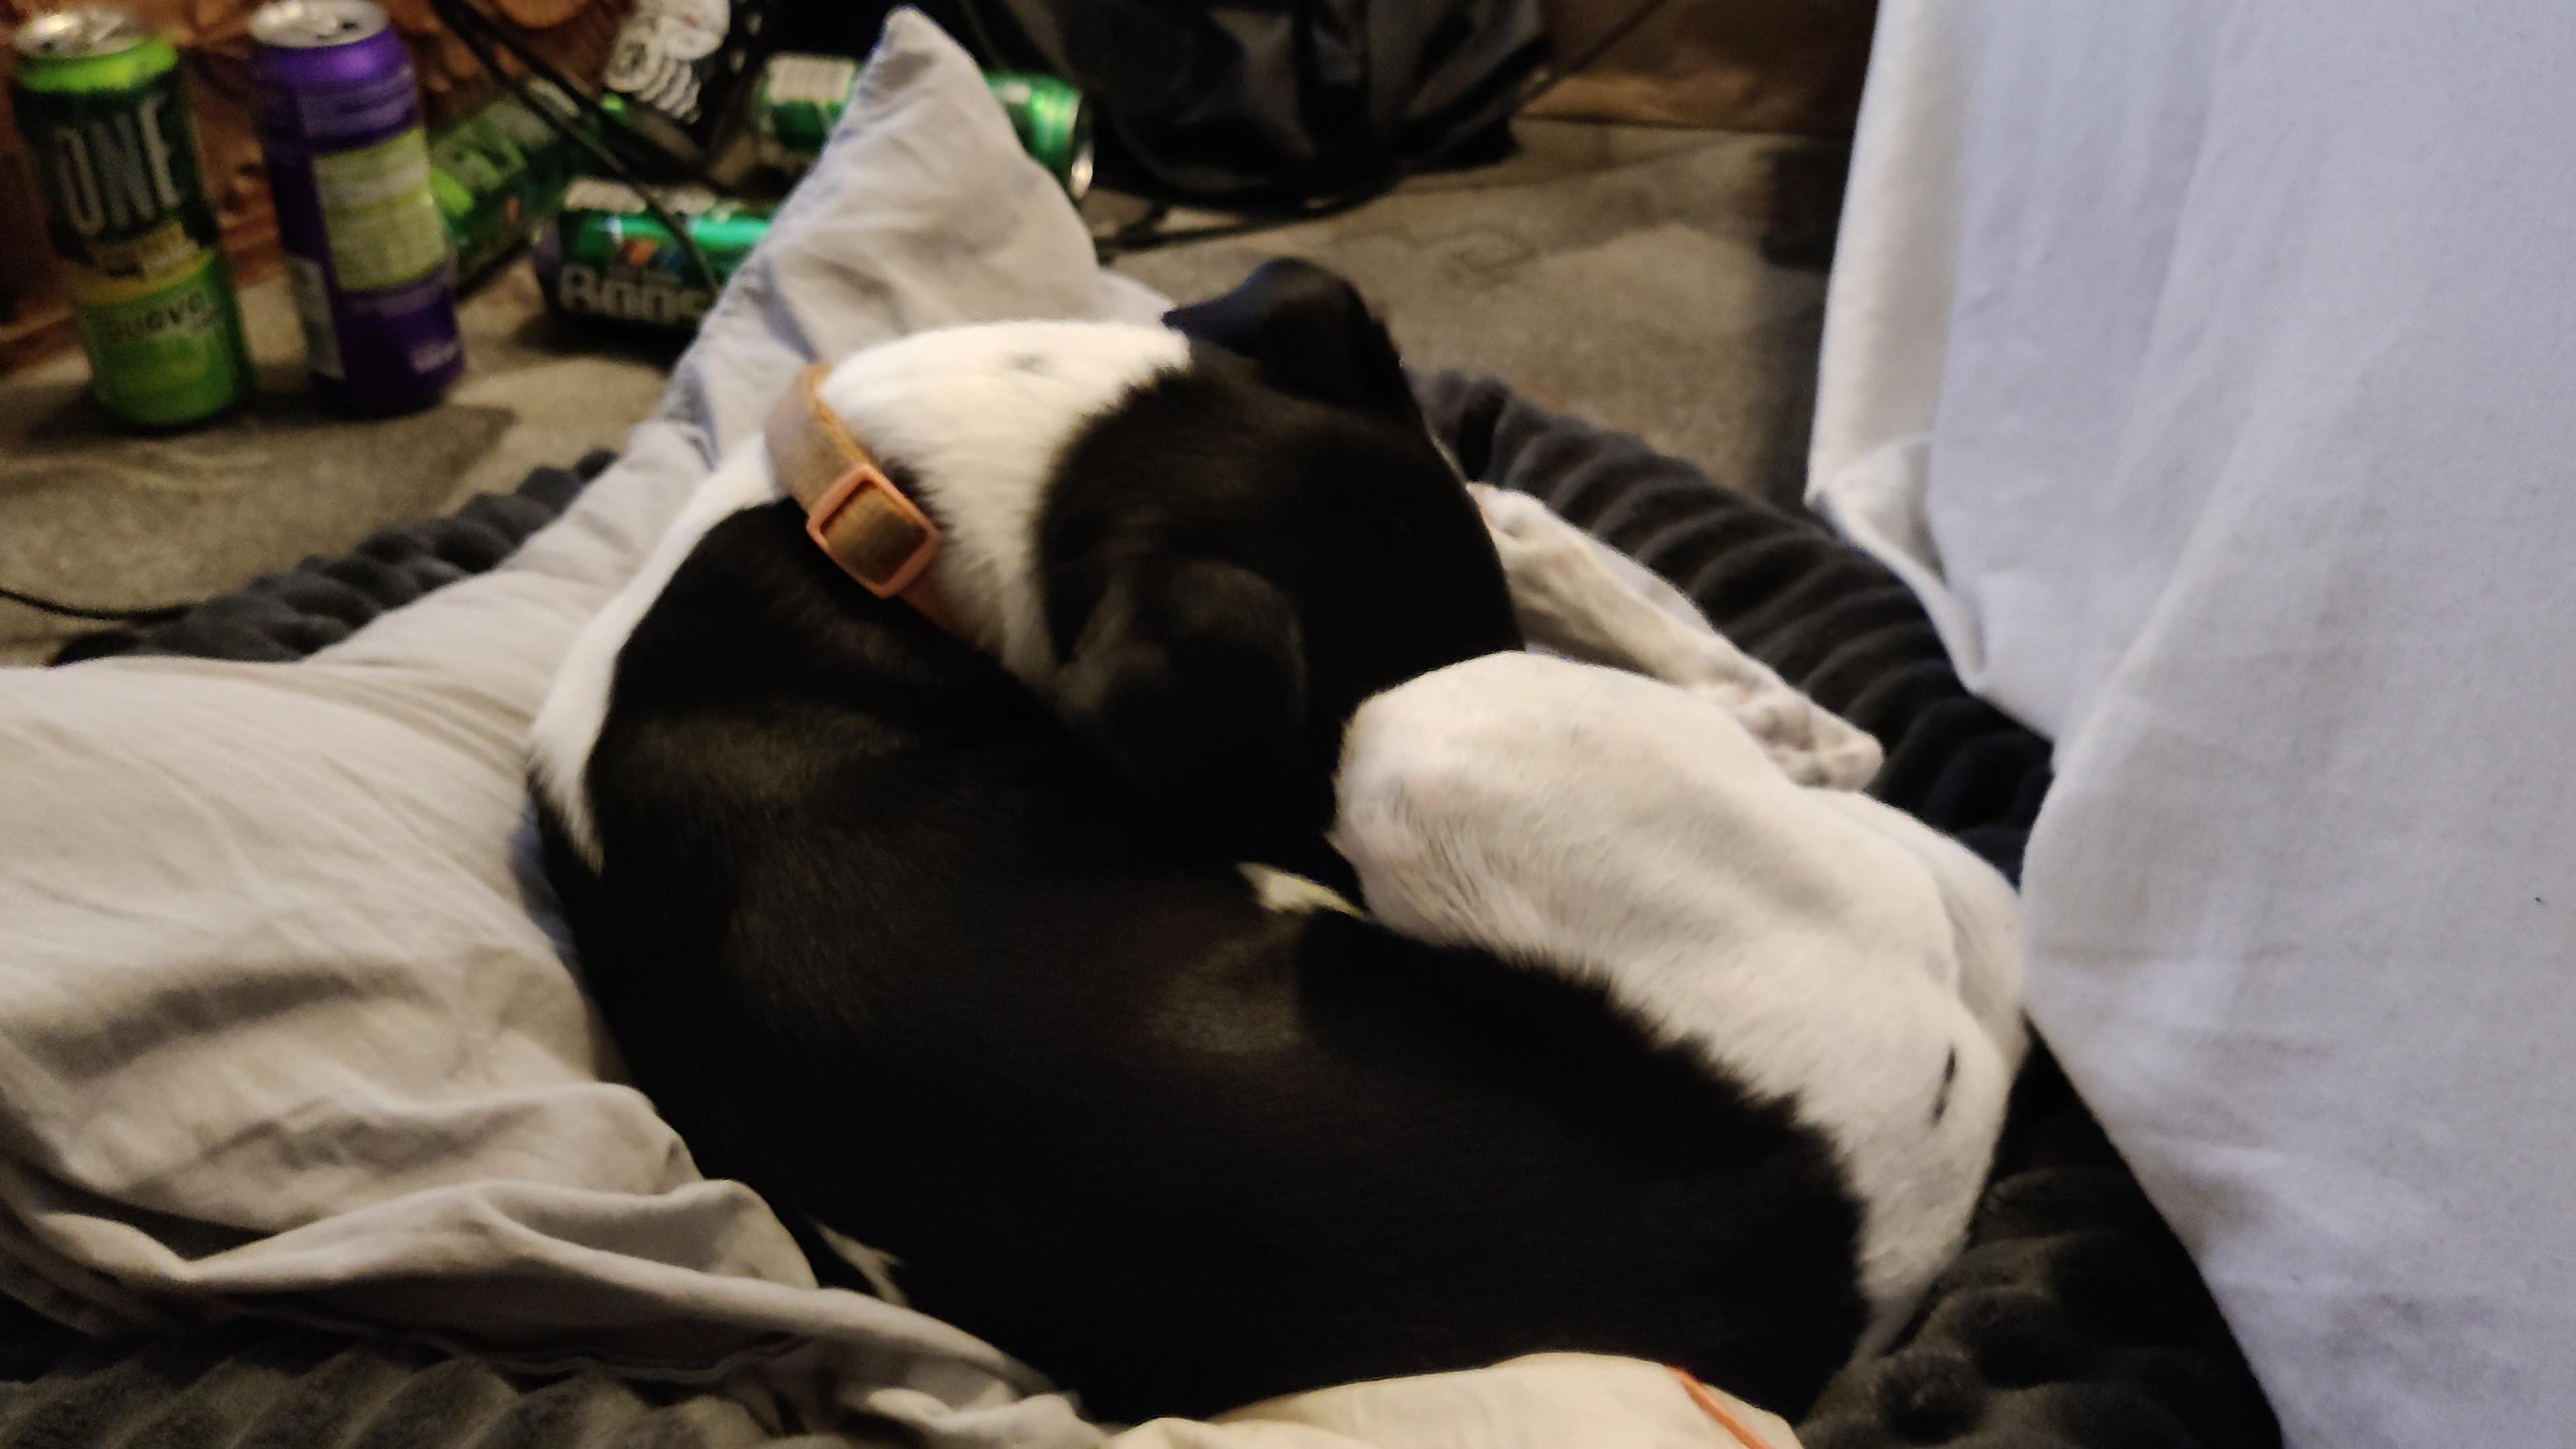Dog: (487, 230, 2088, 1449)
